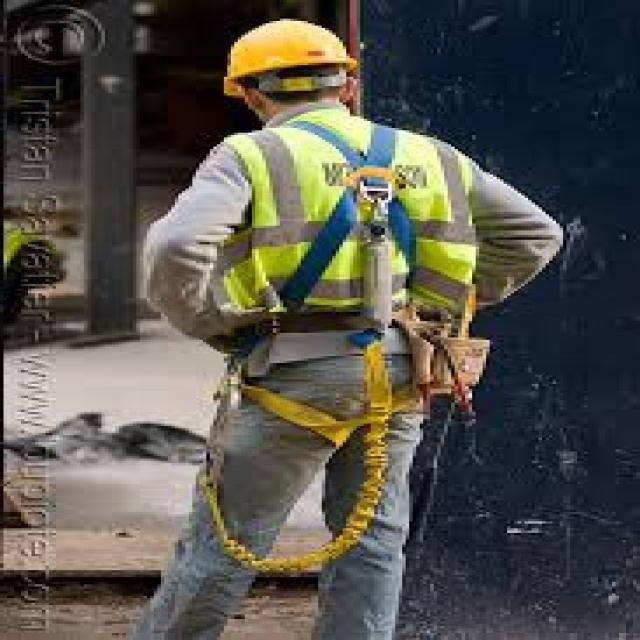Arnes_seguridad: (222, 117, 492, 447)
